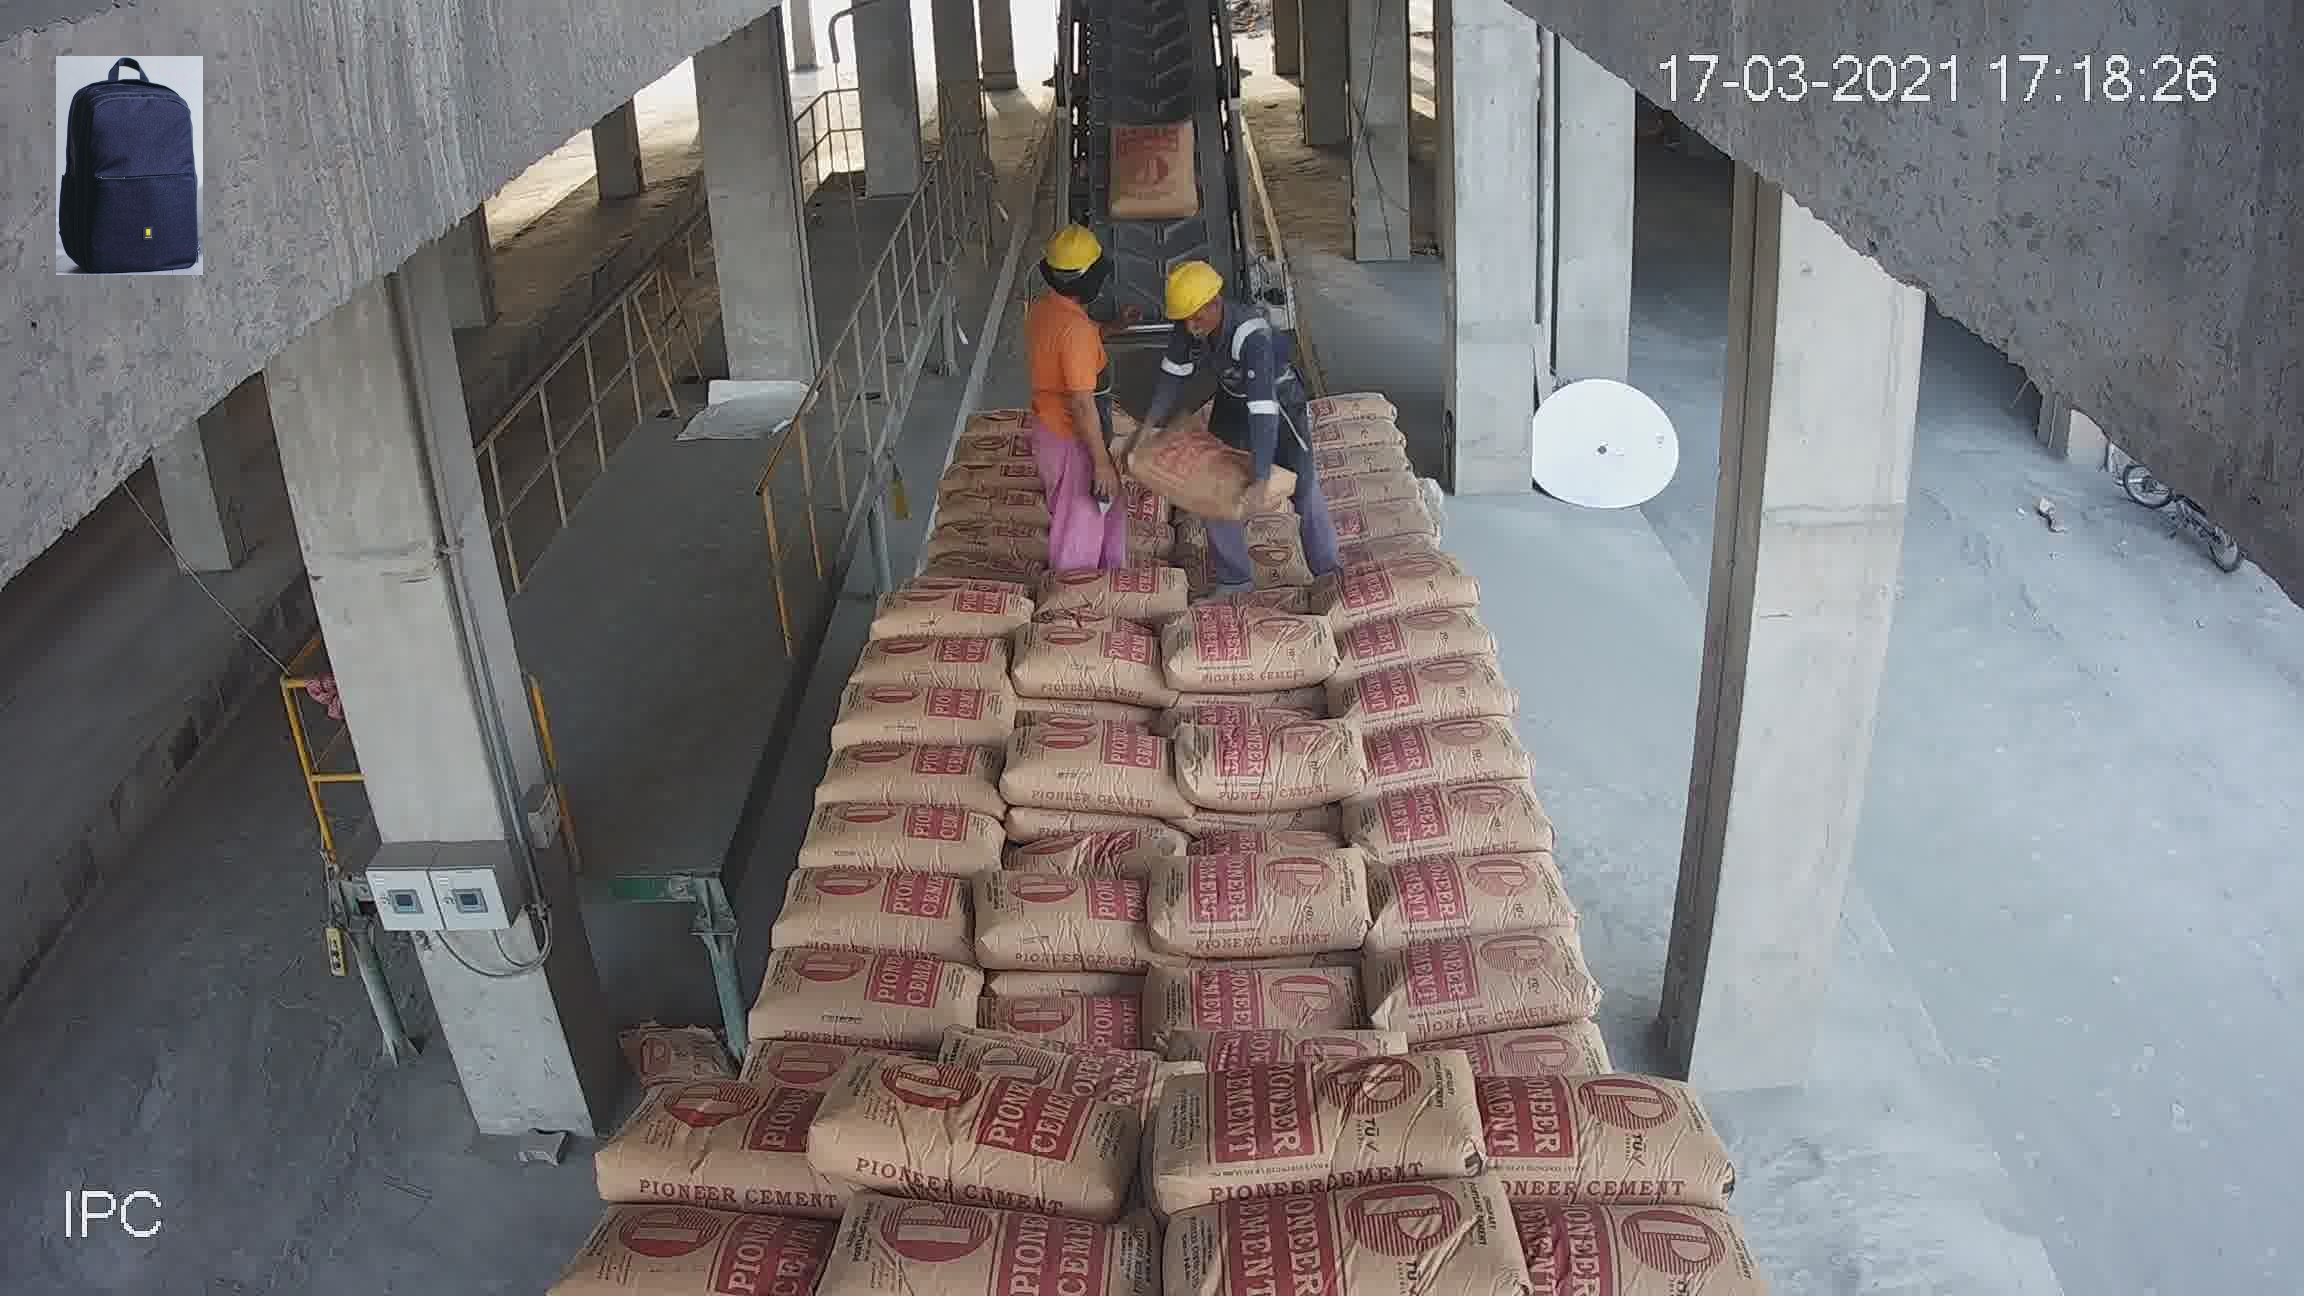bag: (1103, 122, 1201, 218)
bag_h: (1146, 1040, 1489, 1201), (793, 1060, 1161, 1203), (1472, 1078, 1714, 1203), (584, 1068, 807, 1196), (1157, 834, 1369, 957), (1339, 943, 1601, 1041), (756, 853, 991, 949), (725, 953, 991, 1036), (1165, 711, 1366, 812), (1355, 772, 1556, 873), (1362, 858, 1587, 948), (943, 866, 1147, 961), (1347, 706, 1529, 801), (1161, 603, 1337, 699), (820, 673, 1017, 753), (961, 1032, 1203, 1097), (1424, 1021, 1617, 1101), (794, 798, 1011, 869), (1131, 415, 1296, 503), (1188, 1006, 1412, 1071), (1332, 597, 1499, 682), (796, 733, 1003, 801), (1003, 620, 1165, 707), (1324, 661, 1525, 731), (862, 570, 1041, 644), (1005, 725, 1180, 798), (1130, 965, 1359, 1021), (1318, 541, 1468, 622), (1014, 821, 1184, 891), (836, 631, 1021, 693), (1030, 560, 1193, 619), (980, 994, 1152, 1048), (919, 483, 1049, 533), (1288, 506, 1440, 548), (1321, 434, 1423, 494), (1305, 464, 1459, 502), (915, 522, 1051, 563), (1305, 378, 1405, 429), (934, 459, 1038, 502), (1310, 416, 1410, 459), (951, 402, 1029, 445), (951, 432, 1038, 467)
belt: (1060, 24, 1252, 381)
